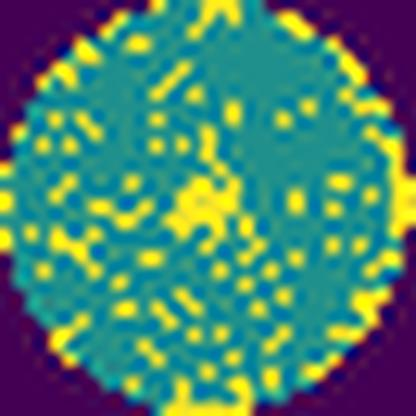Center: (163, 120, 249, 254)
